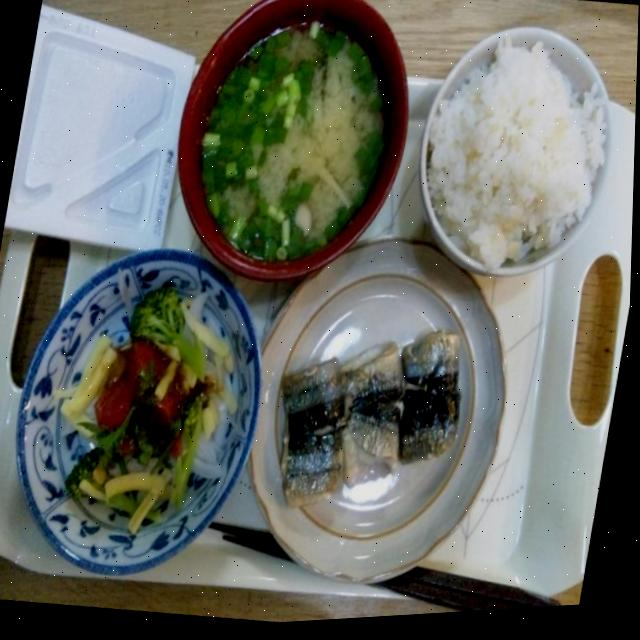米饭主食: (395, 8, 638, 315)
